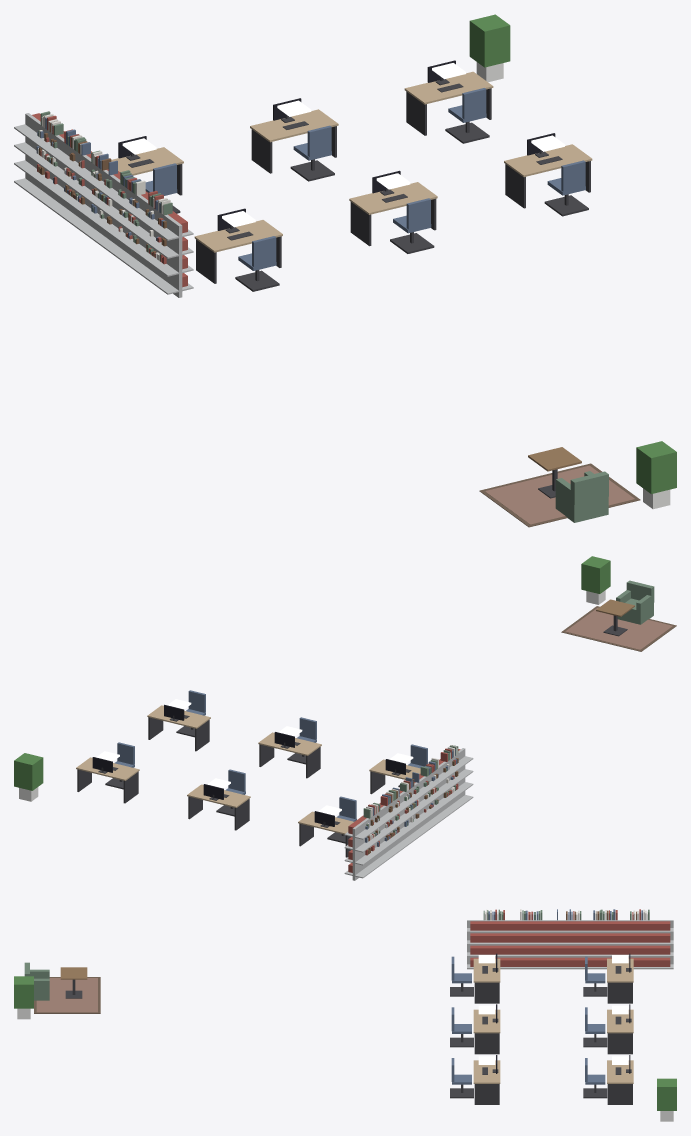
Rendered from fine-s1.glb.
The picture shows the model from 3 angles, top to bottom: view 1: azimuth 30°, elevation 25°; view 2: azimuth 150°, elevation 25°; view 3: azimuth 270°, elevation 25°; orthographic projection. The views are drawn at different scales.
Visible parts, largest first — view 1: soft-s1, shelving.004, shelving.000, office-desk-real.004, office-desk-real.001, office-desk-real.002, office-desk-real.003, office-desk-real.005, shelving.002, shelving.003, plant-medium.001, plant-medium.000 (+10 smaller); view 2: soft-s1, shelving.000, office-desk-real.002, office-desk-real.001, office-desk-real.005, office-desk-real.004, shelving.004, shelving.003, shelving.001, plant-medium.001, plant-medium.000, sofa.000 (+9 smaller); view 3: soft-s1, shelving.000, shelving.002, shelving.003, shelving.001, shelving.004, office-desk-real.003, office-desk-real.004, office-desk-real.000, office-desk-real.001, office-desk-real.005, office-desk-real.002 (+10 smaller).
Part boxes in pixels (x1,y1,x2,y2): soft-s1: (36,111,640,527); shelving.004: (123,193,193,297); shelving.000: (14,113,69,214); office-desk-real.004: (349,170,437,246); office-desk-real.001: (250,98,338,173); office-desk-real.002: (404,60,493,135); office-desk-real.003: (194,208,282,283); office-desk-real.005: (504,133,592,208); shelving.002: (68,155,124,254); shelving.003: (96,173,151,273); plant-medium.001: (469,14,510,82); plant-medium.000: (636,441,676,509); soft-s1: (363,606,676,855); shelving.000: (344,805,394,880); office-desk-real.002: (76,757,139,803); office-desk-real.001: (187,784,250,830); office-desk-real.005: (147,704,210,751); office-desk-real.004: (258,732,321,778); shelving.004: (433,748,473,819); shelving.003: (413,762,453,834); shelving.001: (374,792,414,862); plant-medium.001: (14,753,43,801); plant-medium.000: (581,556,610,604); sofa.000: (616,580,654,624); soft-s1: (34,909,649,1013); shelving.000: (613,920,673,969); shelving.002: (540,920,599,969); shelving.003: (503,920,563,969); shelving.001: (577,920,636,969); shelving.004: (467,920,526,969); office-desk-real.003: (473,953,500,1003); office-desk-real.004: (473,1004,500,1054); office-desk-real.000: (607,953,633,1003); office-desk-real.001: (607,1004,633,1054); office-desk-real.005: (473,1055,500,1104); office-desk-real.002: (607,1055,633,1104).
Size of the model in its own units: 11.27 by 1.93 by 19.9.
